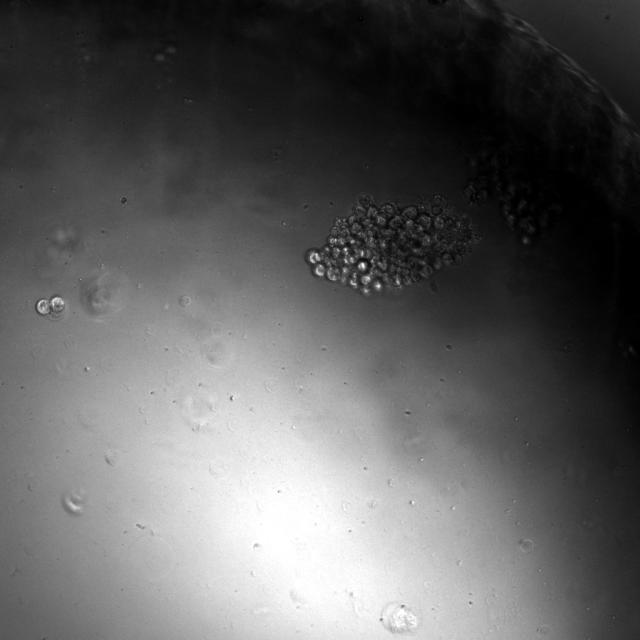organoid: (308, 194, 479, 294), (36, 296, 66, 320)
